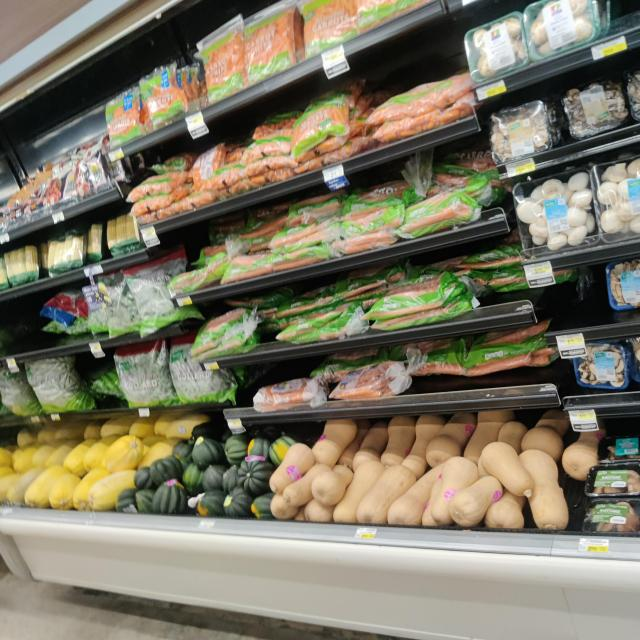Carrots: (282, 81, 370, 153), (362, 84, 482, 136), (236, 1, 300, 86), (367, 280, 482, 326), (268, 304, 365, 348), (127, 176, 209, 220), (327, 360, 417, 400), (94, 86, 146, 150), (240, 130, 296, 187), (241, 378, 329, 414), (200, 37, 247, 100), (194, 316, 258, 362), (144, 60, 186, 127), (398, 205, 477, 239), (271, 230, 335, 268), (332, 230, 404, 252)
Corn: (98, 216, 144, 256), (47, 237, 85, 274)
Lettuce: (161, 341, 235, 409), (20, 354, 96, 419), (118, 269, 196, 330), (116, 350, 178, 415)
Mushrooms: (509, 183, 608, 257), (526, 0, 606, 52), (478, 112, 560, 162), (471, 22, 527, 78)
Squash: (424, 452, 479, 528), (480, 436, 544, 500), (354, 458, 413, 524), (448, 464, 503, 527), (62, 467, 136, 510), (330, 457, 379, 521), (264, 438, 316, 496), (22, 461, 63, 513), (96, 436, 146, 472), (235, 459, 276, 496), (148, 480, 186, 518), (217, 484, 260, 517), (187, 435, 226, 468)
